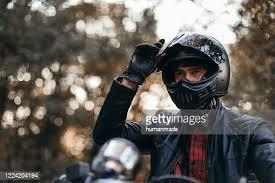helmet: (157, 27, 235, 109)
